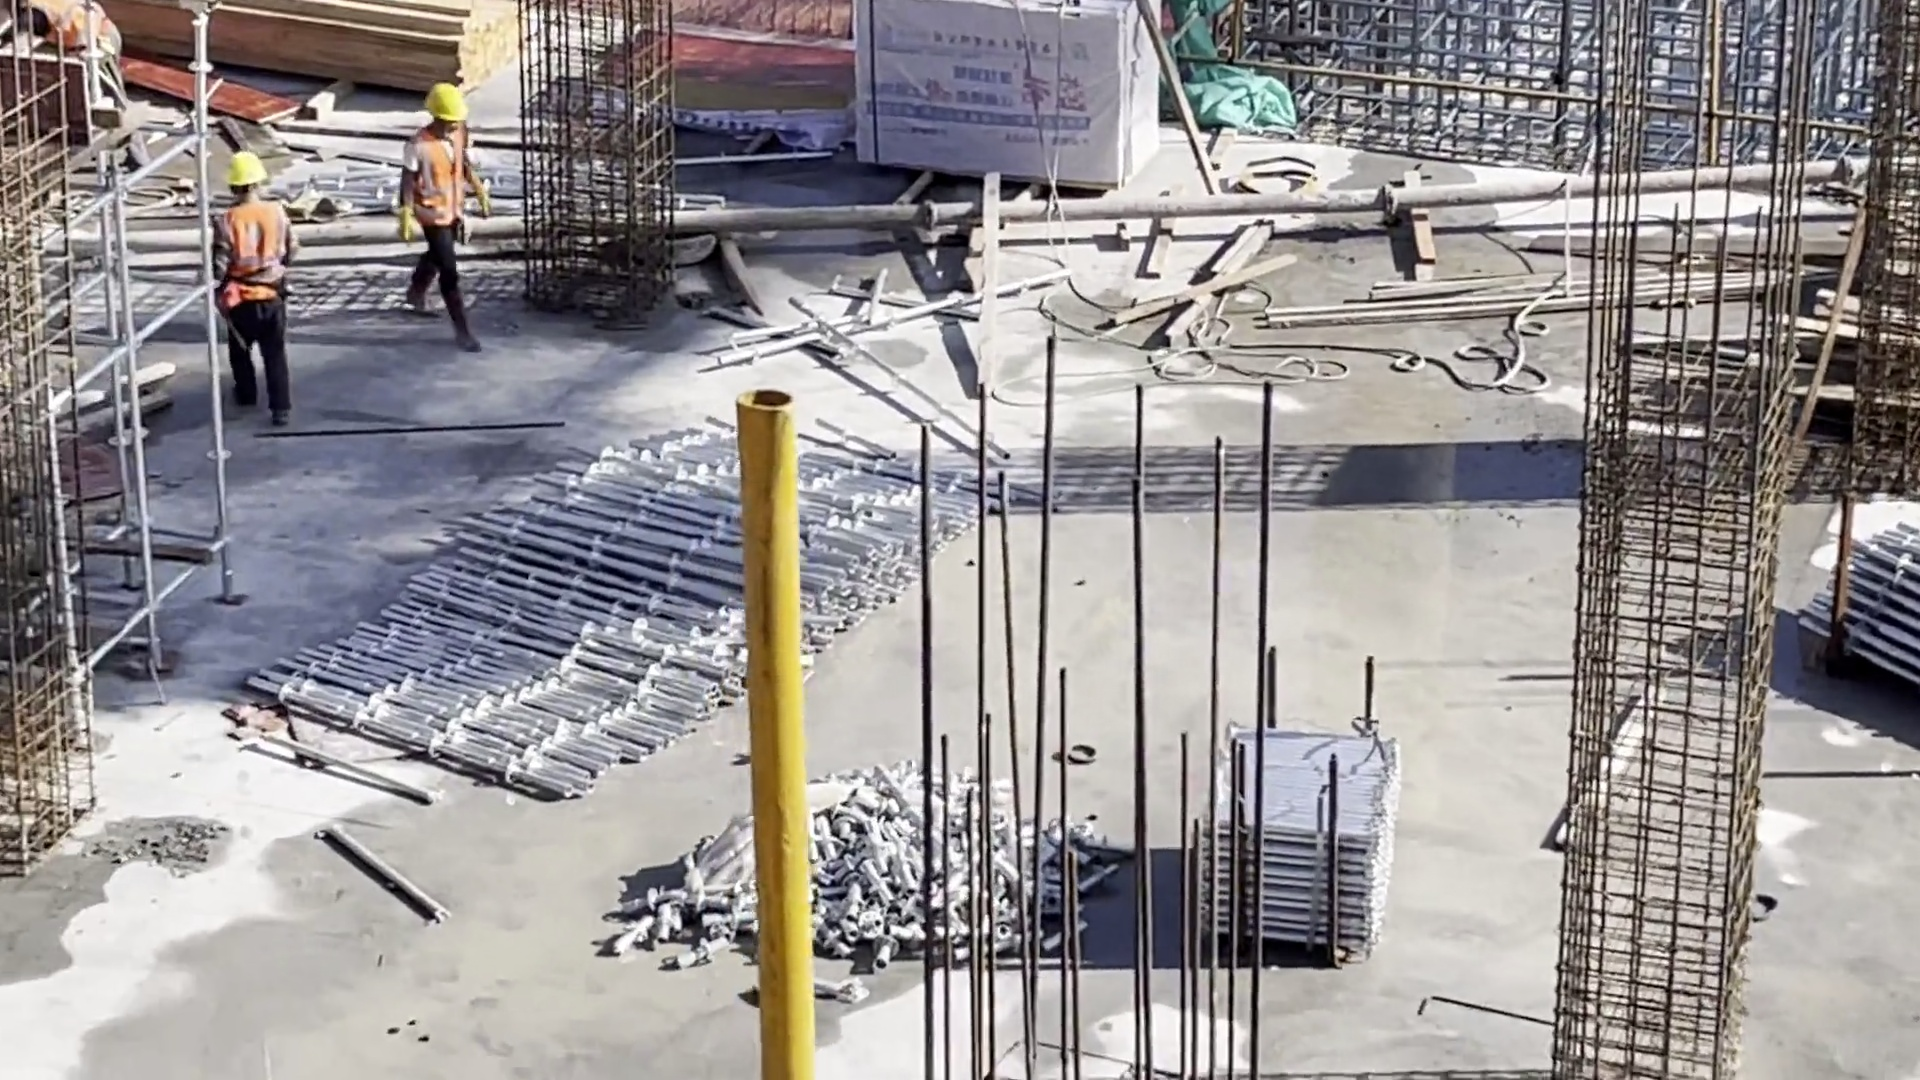helmet: (417, 81, 471, 127), (220, 152, 266, 186)
person: (394, 81, 498, 358), (207, 145, 301, 421), (6, 1, 124, 104)
scaffold: (234, 427, 998, 793), (612, 762, 1121, 1003), (1190, 715, 1401, 970), (1796, 526, 1920, 716)
vest: (216, 198, 289, 313), (407, 125, 471, 239)
wood: (120, 1, 525, 93)
